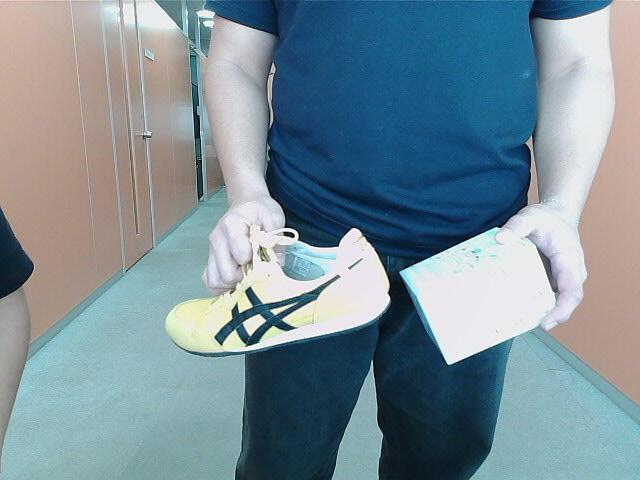Blind_box: (401, 227, 560, 363)
Shoes: (168, 225, 396, 362)
